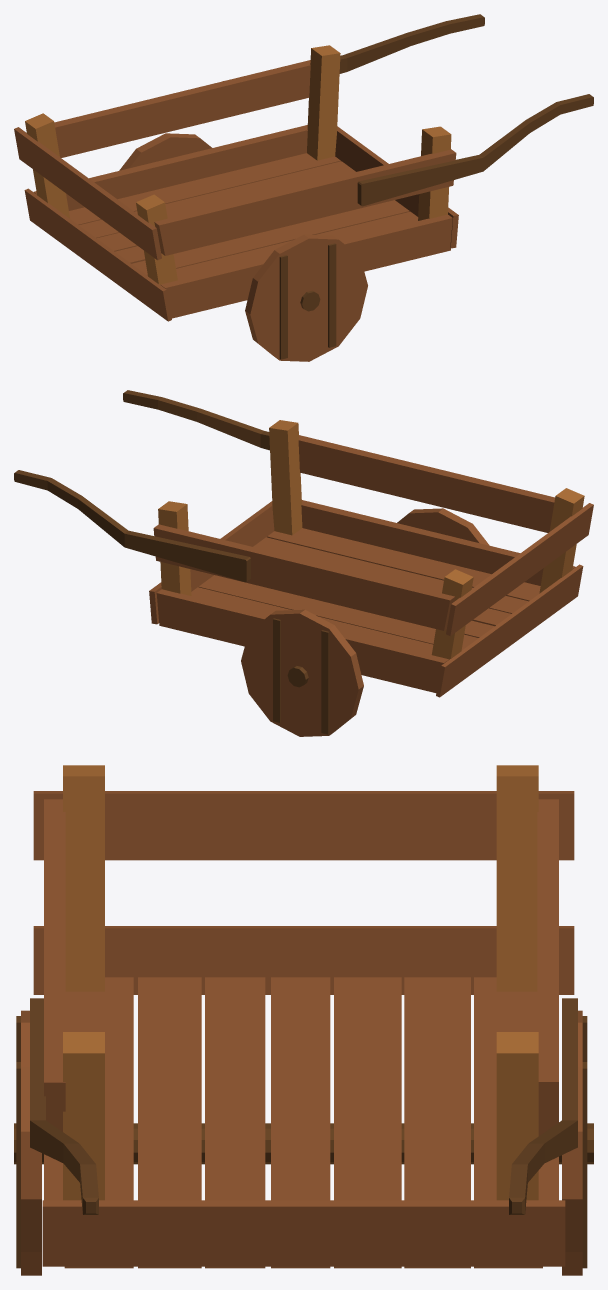
Rendered from LowBrownCart.fbx.
3 views of the same model, one above another, from view 1: azimuth 30°, elevation 25°; view 2: azimuth 150°, elevation 25°; view 3: azimuth 270°, elevation 25° (orthographic). The views are drawn at different scales.
Parts seen in each view (by area): view 1: LowBrownCart; view 2: LowBrownCart; view 3: LowBrownCart.
Boxes of the visible parts, x1=… form: LowBrownCart: x1=14, y1=14, x2=593, y2=361; LowBrownCart: x1=14, y1=390, x2=593, y2=736; LowBrownCart: x1=14, y1=765, x2=593, y2=1275.
Bounding box in the file's own units: 9.44 × 3.65 × 5.33.
